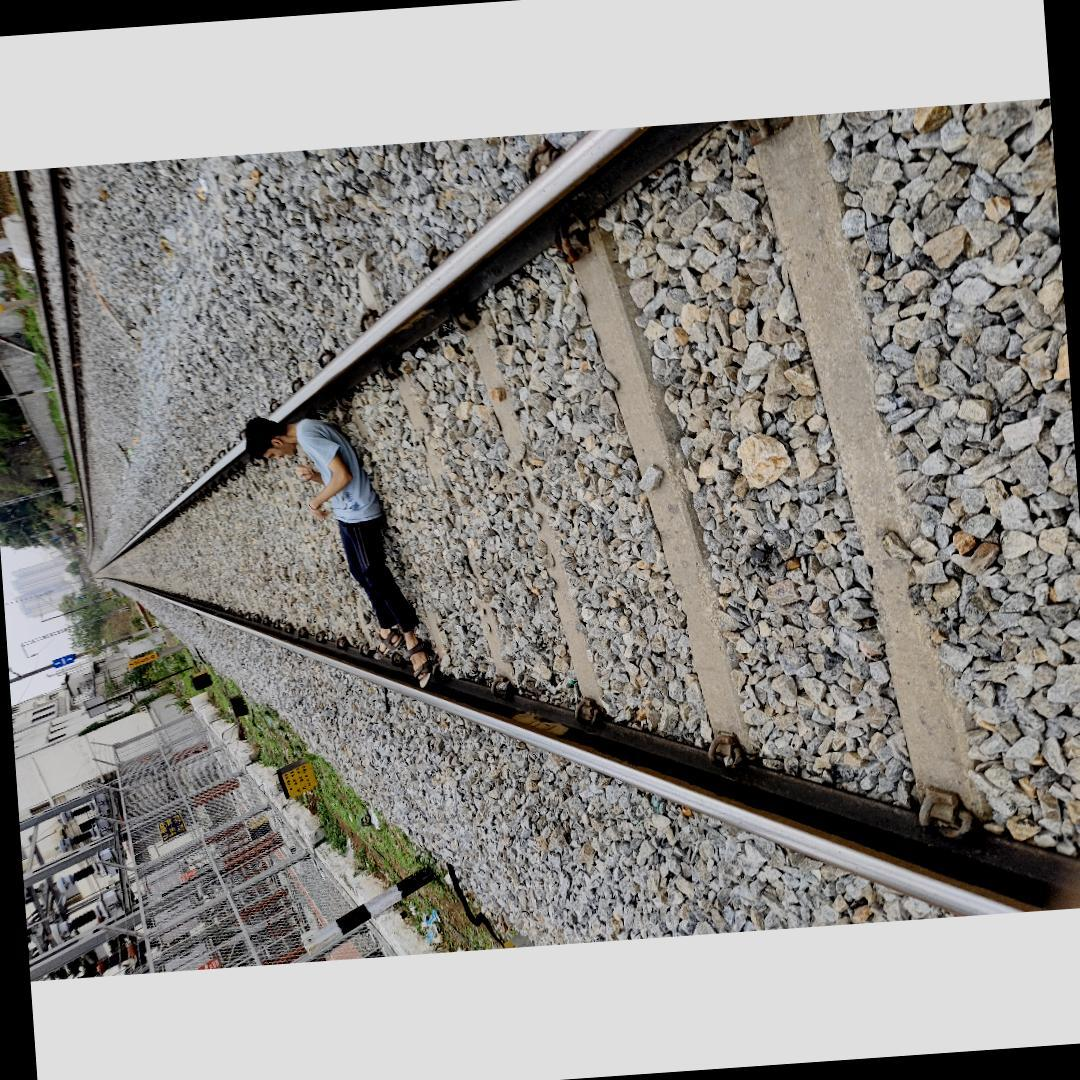sleeping: (240, 404, 439, 702)
track: (77, 98, 1080, 921)
